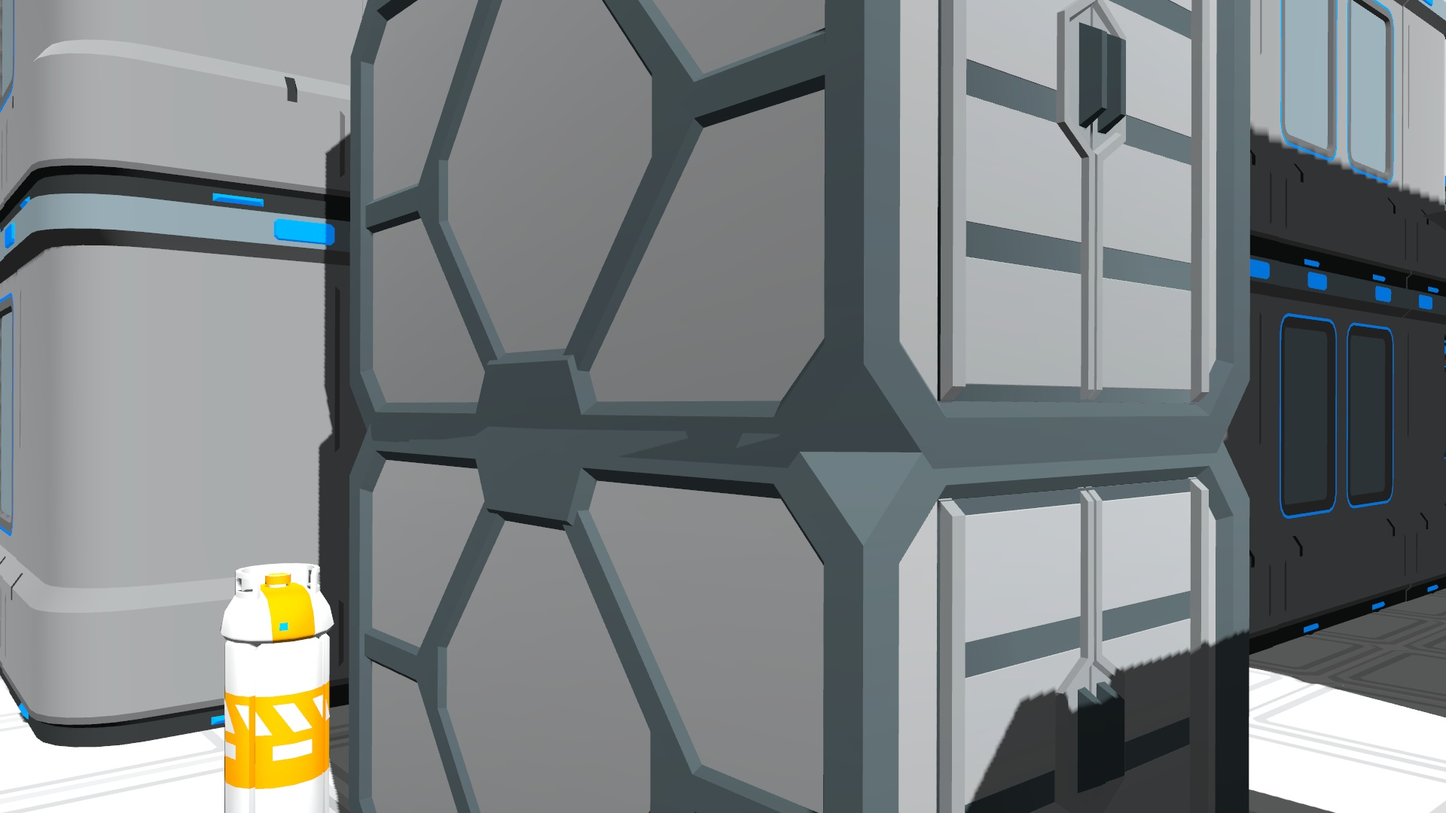yellow_barrel: (215, 559, 334, 813)
